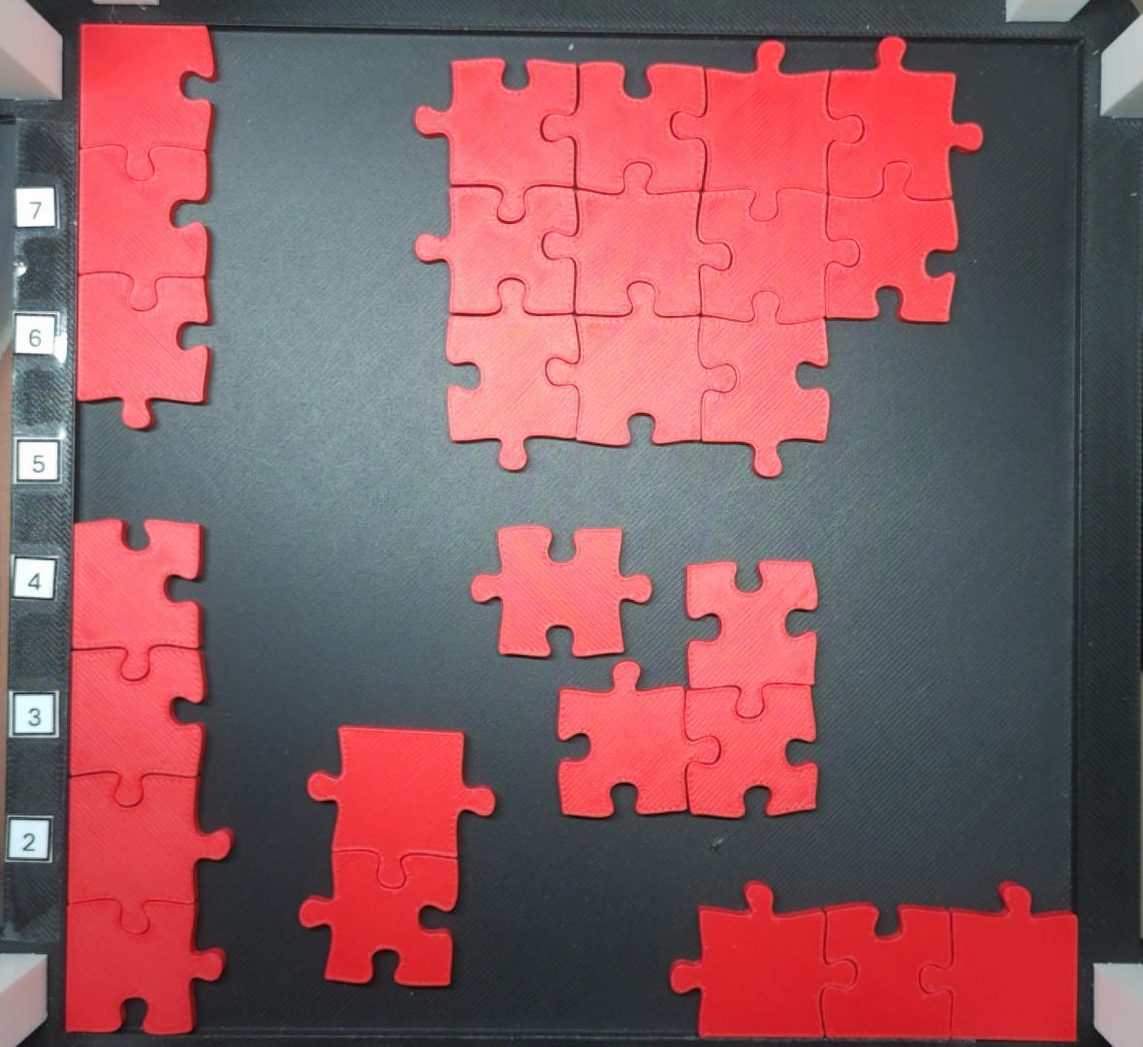p_1: (465, 523, 656, 663)
p_2: (295, 722, 500, 991)
p_3: (555, 556, 821, 821), (668, 878, 1080, 1044), (74, 20, 217, 433)
p_4: (62, 516, 237, 1036)
p_m: (412, 33, 987, 479)
